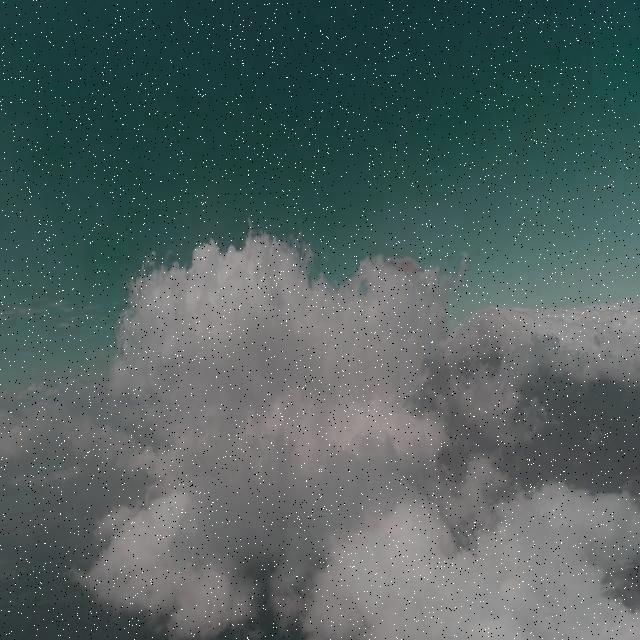Plume: (385, 251, 418, 276)
